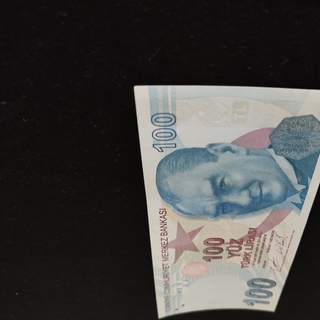100TLFront: (131, 84, 320, 319)
